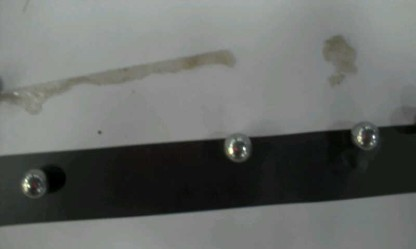ironball: (349, 121, 379, 151), (223, 132, 252, 163), (19, 168, 48, 199)
